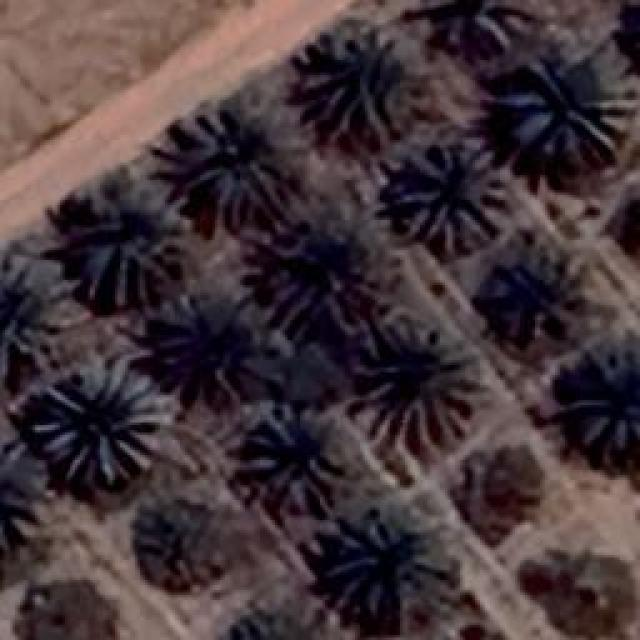PalmTree: (350, 320, 480, 460), (258, 192, 388, 332), (70, 170, 190, 308), (28, 368, 162, 488), (180, 88, 298, 222), (292, 20, 410, 145), (150, 302, 288, 408), (327, 502, 455, 616), (392, 138, 510, 252), (502, 64, 630, 162), (132, 484, 230, 598), (248, 402, 342, 516), (0, 245, 72, 375), (393, 0, 528, 62), (502, 250, 586, 345), (568, 348, 638, 450), (0, 438, 52, 563), (218, 595, 334, 640), (609, 0, 640, 68)
